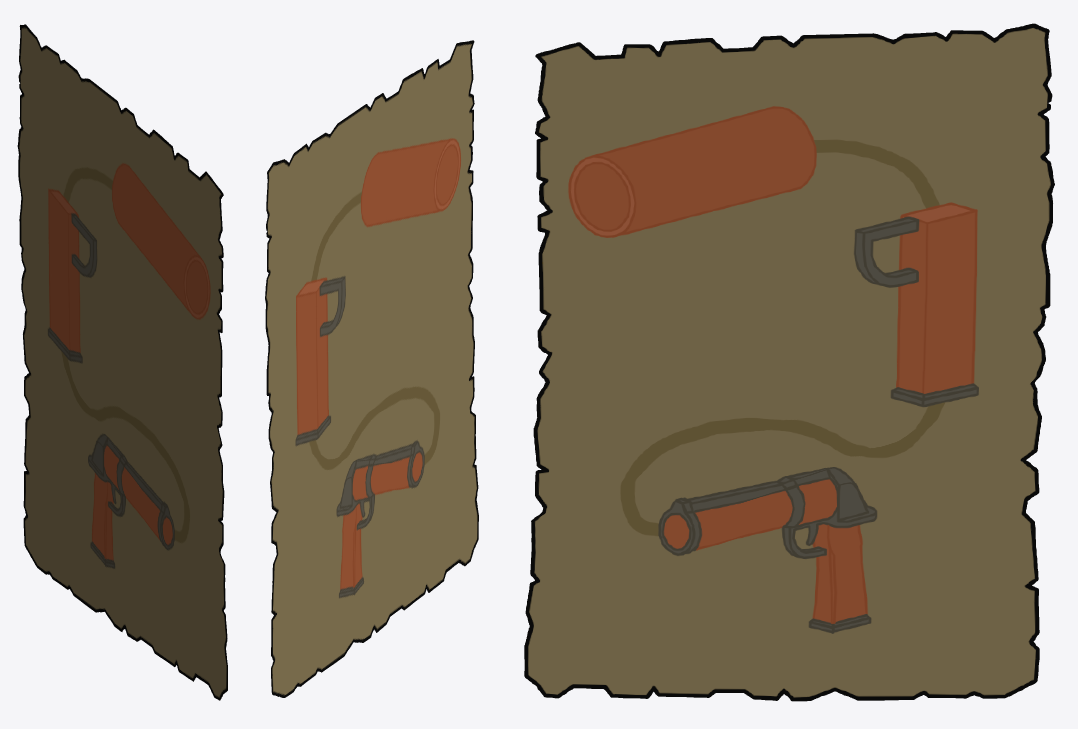
Rendered from Fording_Sides_Paper_GunRecipe.fbx.
3 views of the same model, side by side, from view 1: azimuth 30°, elevation 25°; view 2: azimuth 150°, elevation 25°; view 3: azimuth 270°, elevation 25° (orthographic). The views are drawn at different scales.
Parts seen in each view (by area): view 1: Plane; view 2: Plane; view 3: Plane.
Part boxes in pixels (bbox=[...]): Plane: bbox=[17, 24, 227, 700]; Plane: bbox=[265, 40, 478, 697]; Plane: bbox=[524, 23, 1054, 701].
Bounding box in the file's own units: 2e-05 × 278 × 198.
Materials: 1 (1 with a texture image).
